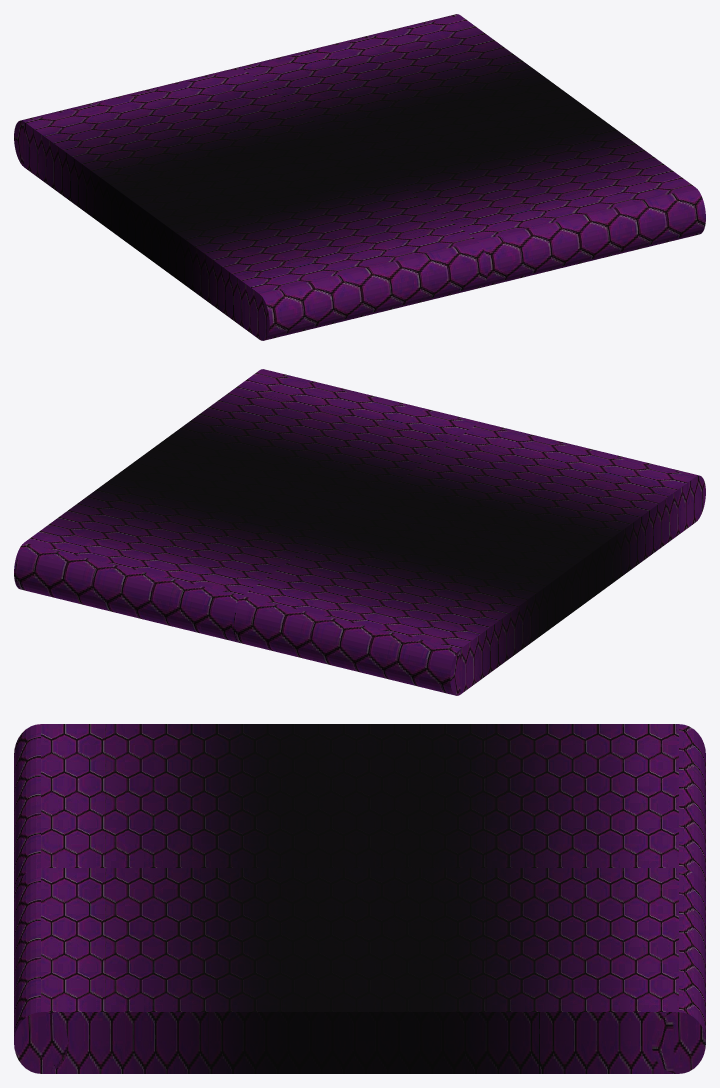
Rendered from level-03-track-04abc.glb.
3 views of the same model, one above another, from view 1: azimuth 30°, elevation 25°; view 2: azimuth 150°, elevation 25°; view 3: azimuth 270°, elevation 25° (orthographic). The views are drawn at different scales.
Visible parts, largest first — view 1: track-04.002-abc; view 2: track-04.002-abc; view 3: track-04.002-abc.
Boxes of the visible parts, x1=… form: track-04.002-abc: x1=14, y1=14, x2=705, y2=340; track-04.002-abc: x1=14, y1=369, x2=705, y2=695; track-04.002-abc: x1=14, y1=724, x2=705, y2=1073.
Bounding box in the file's own units: 4 × 0.4 × 4.06.
2 materials, 2 textured.
